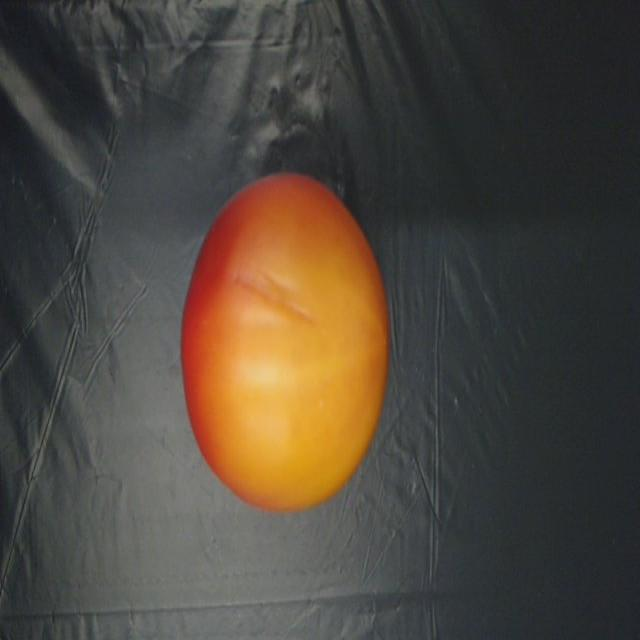sari: (160, 158, 397, 537)
yesil: (159, 156, 400, 524)
